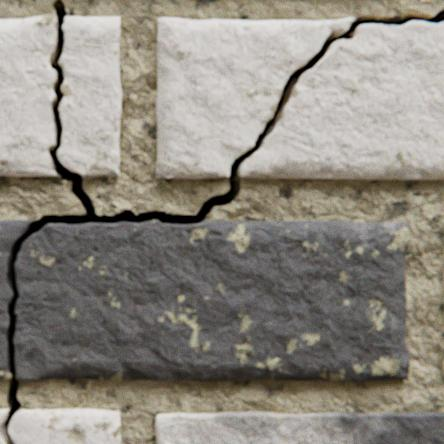brick: (155, 410, 443, 443), (442, 229, 443, 306), (442, 354, 443, 374)
broken_brick: (14, 220, 409, 380), (238, 22, 443, 179), (156, 18, 354, 178), (58, 18, 121, 178), (0, 16, 58, 176), (0, 220, 35, 378), (9, 408, 120, 443), (0, 408, 8, 424), (0, 429, 6, 443)
crack: (0, 0, 443, 443)
